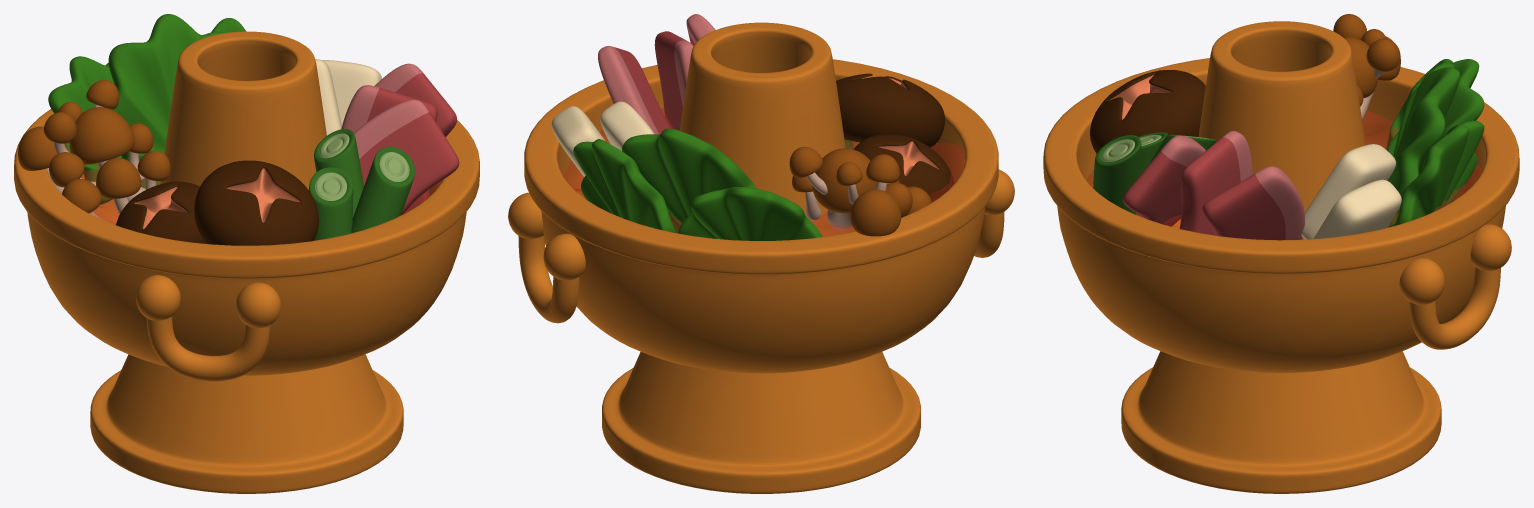
3 renders of one model, left to right at view 1: azimuth 30°, elevation 25°; view 2: azimuth 150°, elevation 25°; view 3: azimuth 270°, elevation 25°, orthographic. The views are drawn at different scales.
Parts seen in each view (by area): view 1: Circle.163, Circle.161, Sphere.061, Circle.166, Plane.081, Plane.078, Sphere.062, Cylinder.021, Sphere.060, Sphere.134, Cylinder.022, Circle.165 (+14 smaller); view 2: Circle.161, Circle.163, Circle.166, Sphere.061, Circle.165, Circle.168, Plane.078, Sphere.060, Sphere.062, Plane.077, Plane.080, Sphere.134 (+10 smaller); view 3: Circle.161, Circle.163, Sphere.061, Plane.077, Circle.166, Circle.168, Plane.080, Plane.081, Plane.078, Cube.082, Sphere.060, Cube.083 (+7 smaller).
Part boxes in pixels (bbox=[...]): Circle.163: bbox=[90, 31, 403, 493]; Circle.161: bbox=[14, 109, 479, 375]; Sphere.061: bbox=[194, 160, 318, 245]; Circle.166: bbox=[108, 14, 223, 188]; Plane.081: bbox=[354, 99, 459, 215]; Plane.078: bbox=[146, 316, 270, 381]; Sphere.062: bbox=[116, 181, 206, 243]; Cylinder.021: bbox=[351, 146, 414, 233]; Sphere.060: bbox=[135, 275, 280, 328]; Sphere.134: bbox=[69, 107, 145, 201]; Cylinder.022: bbox=[309, 167, 353, 240]; Circle.165: bbox=[48, 56, 121, 204]; Circle.161: bbox=[524, 59, 998, 373]; Circle.163: bbox=[602, 22, 920, 493]; Circle.166: bbox=[622, 128, 756, 233]; Sphere.061: bbox=[836, 73, 944, 147]; Circle.165: bbox=[678, 187, 822, 240]; Circle.168: bbox=[573, 139, 676, 233]; Plane.078: bbox=[518, 211, 1004, 323]; Sphere.060: bbox=[508, 169, 1014, 280]; Sphere.062: bbox=[854, 134, 953, 202]; Plane.077: bbox=[598, 46, 670, 134]; Plane.080: bbox=[654, 31, 693, 130]; Sphere.134: bbox=[812, 148, 877, 230]; Circle.161: bbox=[1043, 58, 1519, 372]; Circle.163: bbox=[1121, 21, 1441, 493]; Sphere.061: bbox=[1090, 70, 1205, 153]; Plane.077: bbox=[1202, 166, 1304, 240]; Circle.166: bbox=[1387, 62, 1460, 227]; Circle.168: bbox=[1389, 120, 1484, 227]; Plane.080: bbox=[1179, 131, 1252, 235]; Plane.081: bbox=[1122, 135, 1205, 226]; Plane.078: bbox=[1409, 267, 1500, 349]; Cube.082: bbox=[1301, 144, 1396, 239]; Sphere.060: bbox=[1399, 224, 1511, 304]; Cube.083: bbox=[1313, 179, 1401, 238].
Size of the model in its own units: 3.02 by 2.65 by 3.02.
